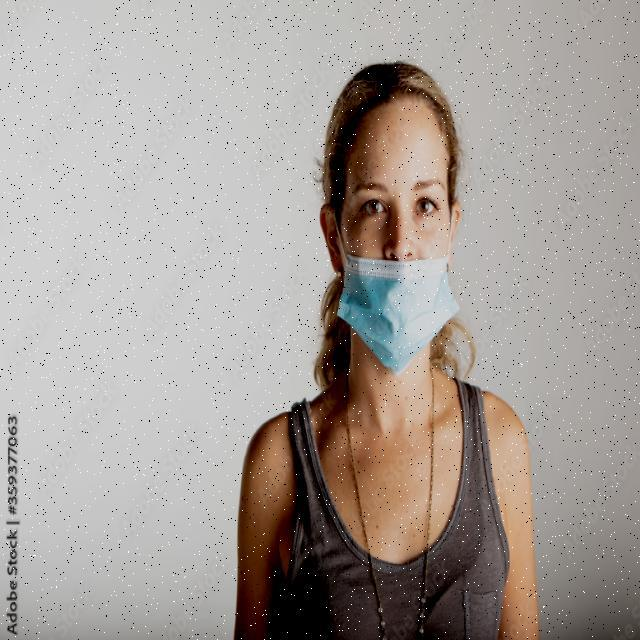face_half_mask: (323, 88, 458, 354)
